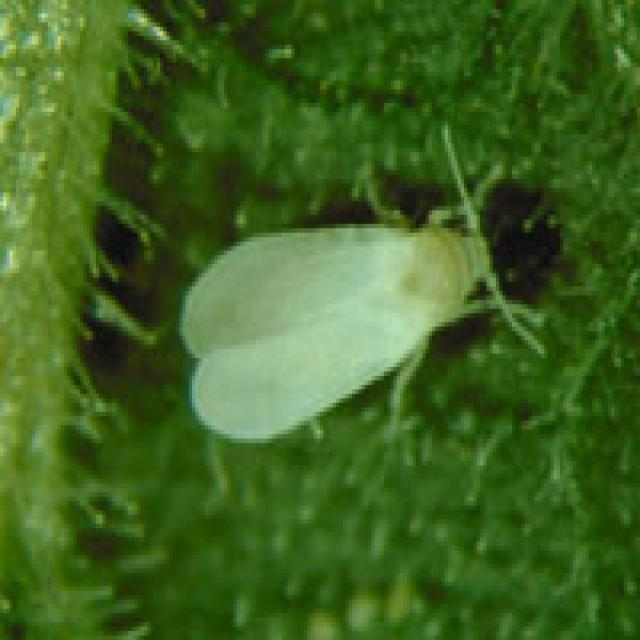Whitefly: (170, 107, 559, 467)
